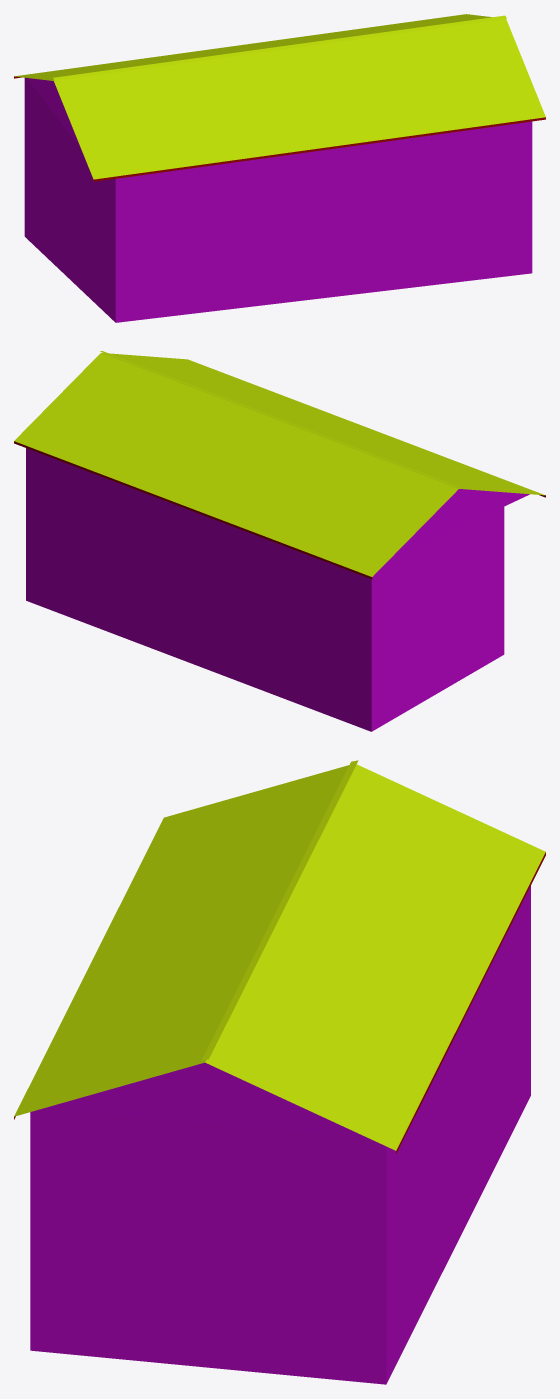
Rendered from bgj_293.glb.
The picture shows the model from 3 angles, top to bottom: view 1: azimuth 30°, elevation 25°; view 2: azimuth 150°, elevation 25°; view 3: azimuth 270°, elevation 25°; orthographic projection. The views are drawn at different scales.
Visible parts, largest first — view 1: bgj_293; view 2: bgj_293; view 3: bgj_293.
Part boxes in pixels (bbox=[...]): bgj_293: bbox=[14, 14, 545, 322]; bgj_293: bbox=[14, 351, 545, 731]; bgj_293: bbox=[14, 760, 545, 1384].
Size of the model in its own units: 24.67 by 10.87 by 16.64.
